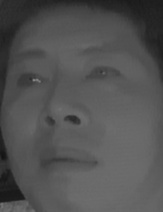eye: (83, 62, 121, 88), (11, 70, 46, 91)
mouth: (37, 141, 99, 179)
